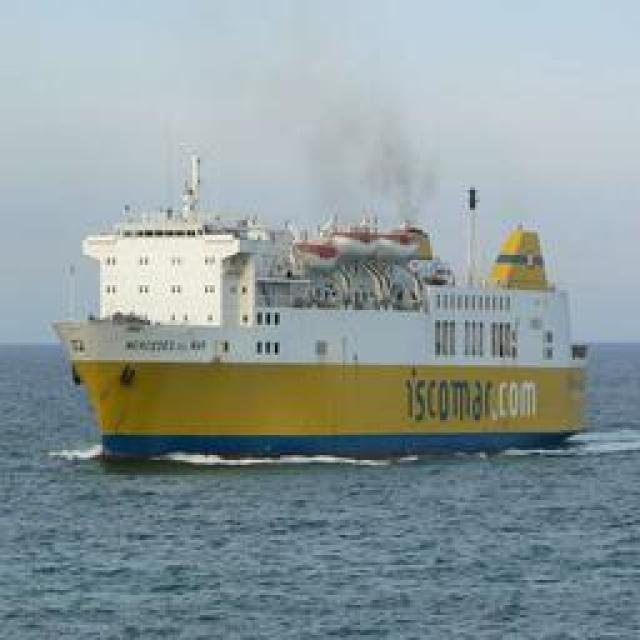CIV_Ship: (45, 150, 605, 468)
